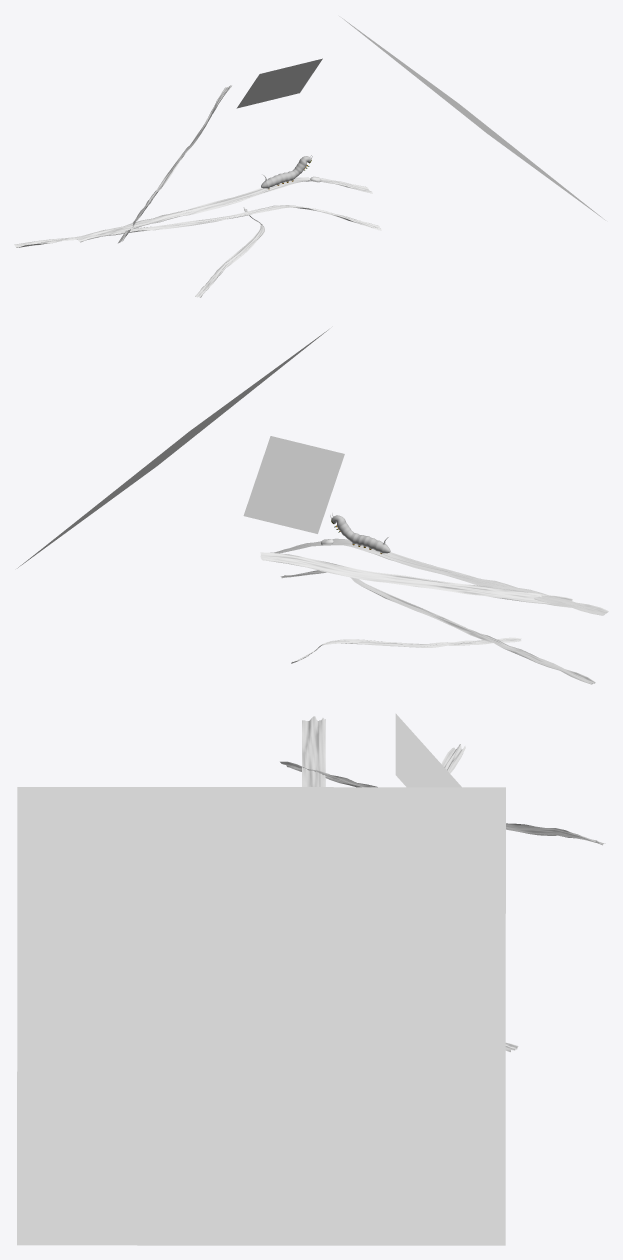
File: caterpillarfinal.fbx
The picture shows the model from 3 angles, top to bottom: view 1: azimuth 30°, elevation 25°; view 2: azimuth 150°, elevation 25°; view 3: azimuth 270°, elevation 25°; orthographic projection. The views are drawn at different scales.
Parts seen in each view (by area): view 1: light2, main grass, grass2, light 1, grass4, grass3, corps; view 2: light2, grass4, main grass, light 1, grass2, grass3, corps; view 3: light 1, light2, main grass, grass4.
Part boxes in pixels (left/top/right/bottom): light2: left=236, top=58, right=322, bottom=108; main grass: left=75, top=177, right=372, bottom=242; grass2: left=14, top=205, right=381, bottom=247; light 1: left=339, top=16, right=605, bottom=220; grass4: left=118, top=85, right=231, bottom=243; grass3: left=195, top=207, right=264, bottom=297; corps: left=261, top=155, right=312, bottom=189; light2: left=243, top=436, right=344, bottom=533; grass4: left=260, top=552, right=572, bottom=607; main grass: left=270, top=538, right=608, bottom=615; light 1: left=17, top=329, right=328, bottom=568; grass2: left=280, top=570, right=595, bottom=684; grass3: left=291, top=637, right=521, bottom=663; corps: left=330, top=513, right=390, bottom=553; light 1: left=17, top=787, right=505, bottom=1245; light2: left=395, top=713, right=461, bottom=787; main grass: left=302, top=716, right=325, bottom=786; grass4: left=280, top=761, right=605, bottom=845.
Size of the model in its own units: 9151 by 3248 by 4823.
